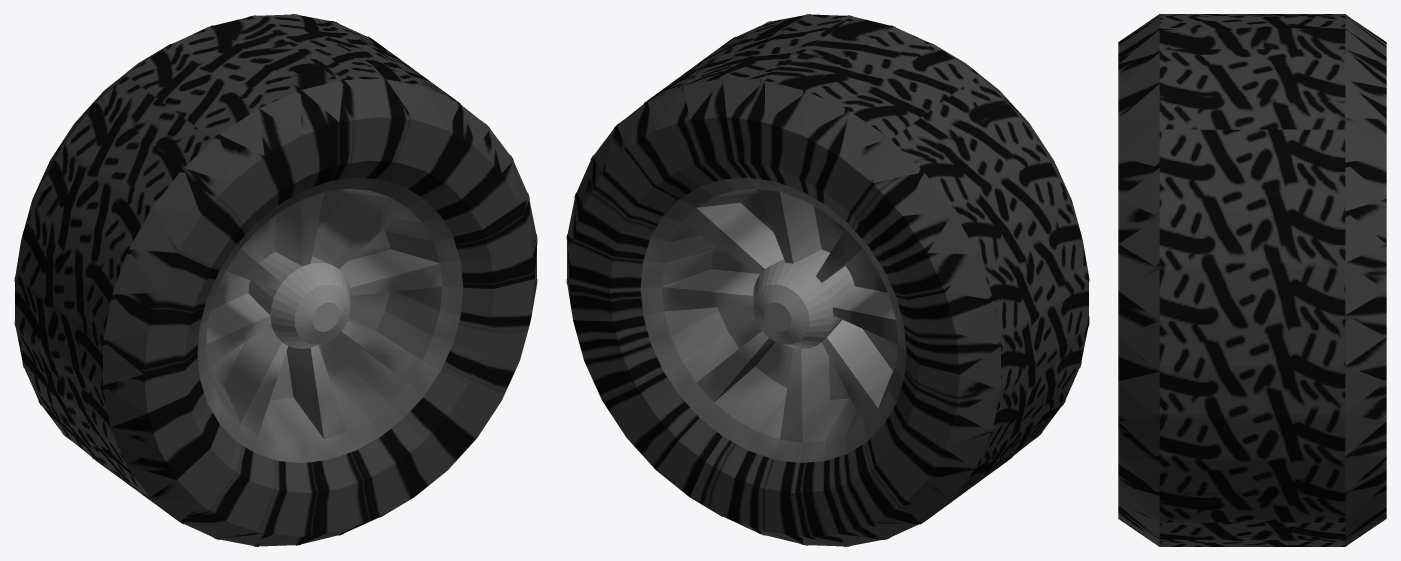
File: RandomRaceCarWheel.obj
3 views of the same model, side by side, from view 1: azimuth 30°, elevation 25°; view 2: azimuth 150°, elevation 25°; view 3: azimuth 270°, elevation 25° (orthographic). The views are drawn at different scales.
Visible parts, largest first — view 1: Cylinder; view 2: Cylinder; view 3: Cylinder.
Part boxes in pixels (bbox=[...]): Cylinder: bbox=[14, 14, 537, 546]; Cylinder: bbox=[566, 14, 1089, 546]; Cylinder: bbox=[1118, 14, 1386, 546].
Bounding box in the file's own units: 4.96 × 4.96 × 2.5.
